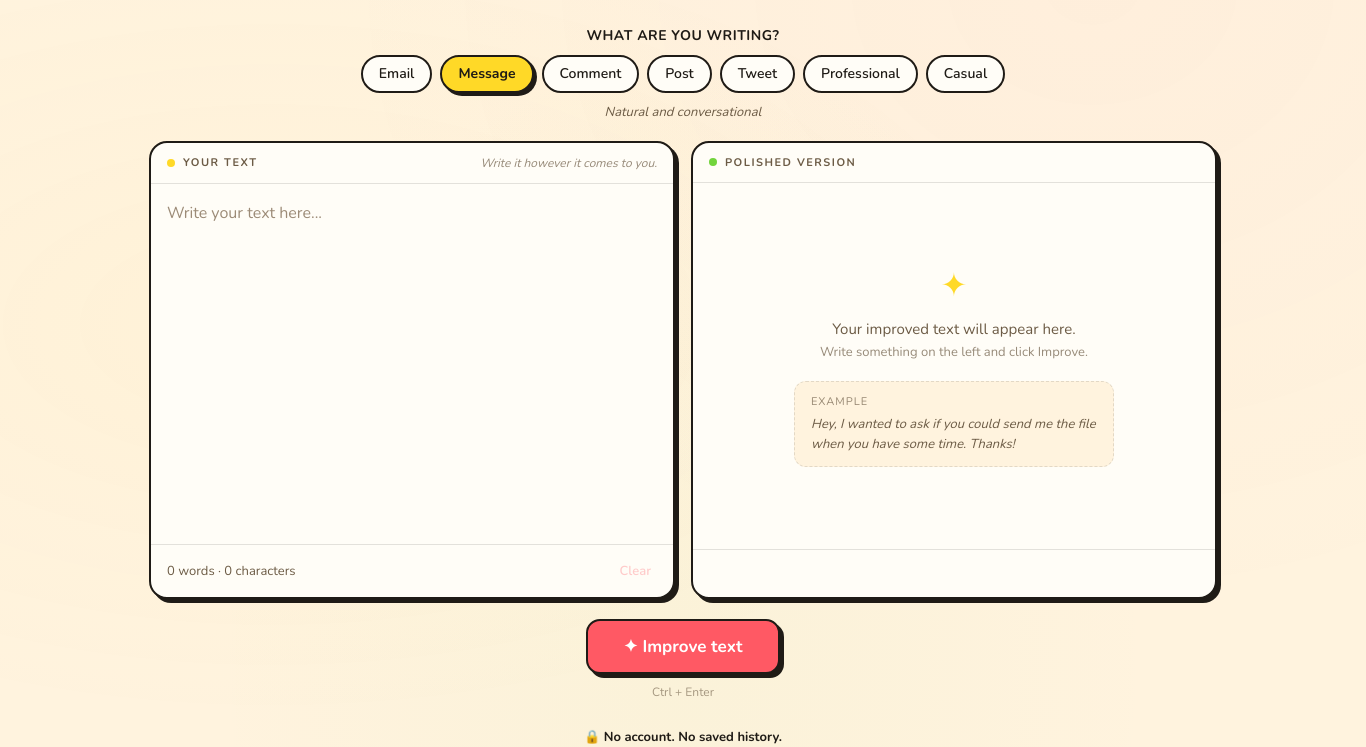
Page Component › error state shows error message
The width and height of the screenshot is (1366, 747).
(page scrolled)
Step 1. Type "rough text" into the text box with placeholder "Write your text here..." → [412, 364], box [151,184,673,544]
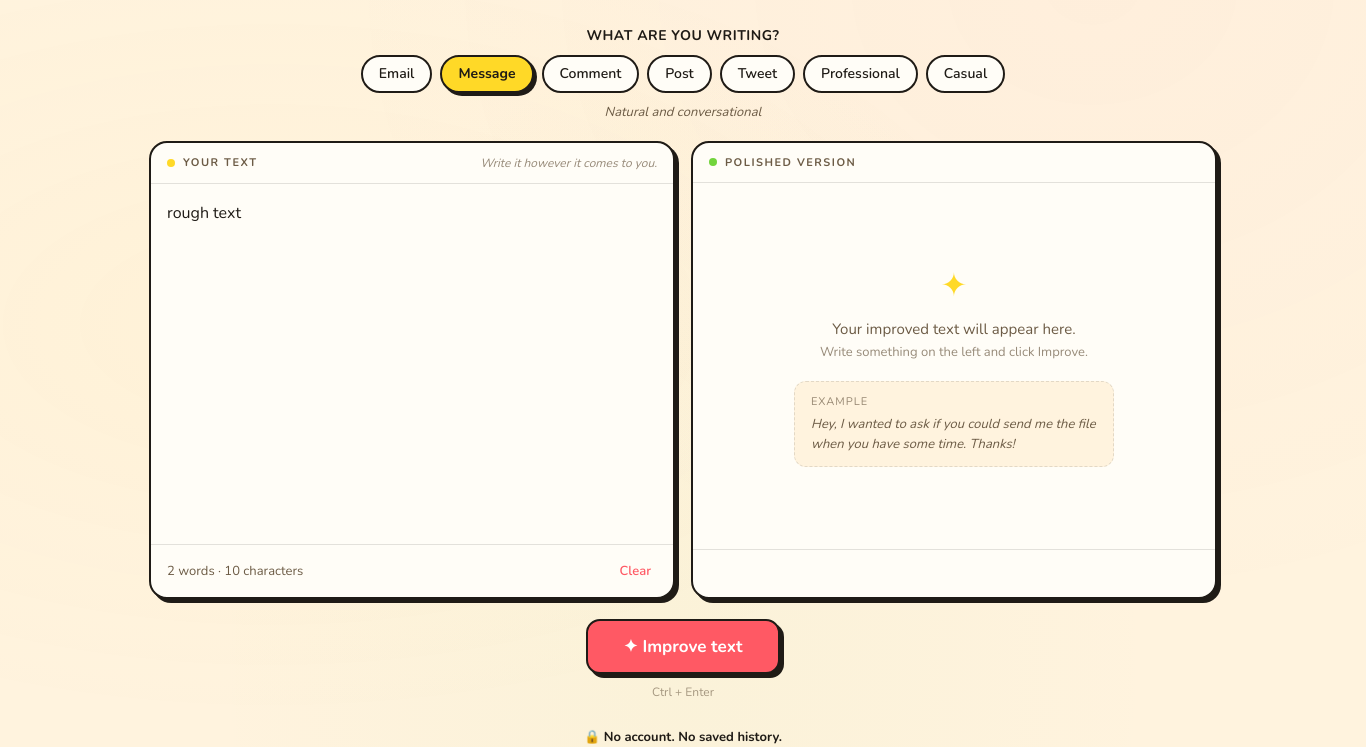
Step 2. Click the button "✦ Improve text" → [683, 646], box [586,619,780,674]
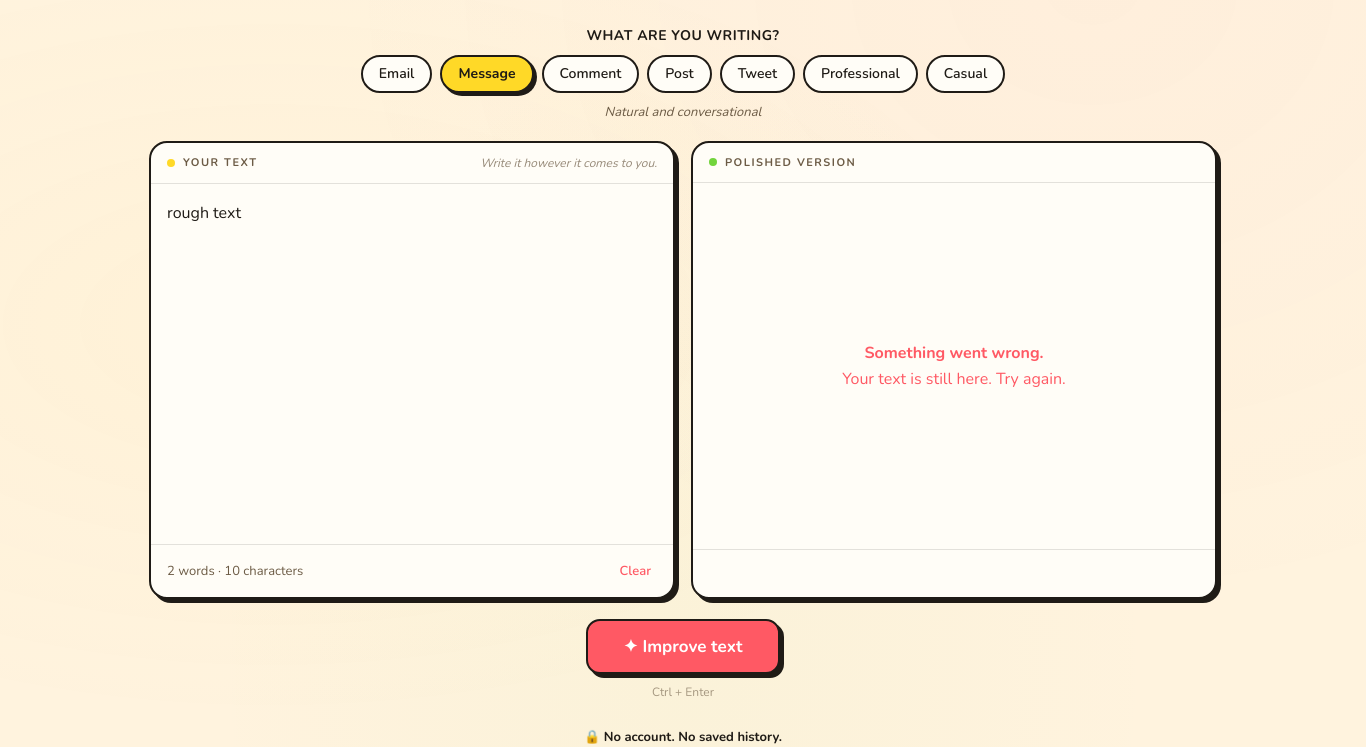
Check: the text "Something went wrong." is shown, box [864,342,1044,364]
